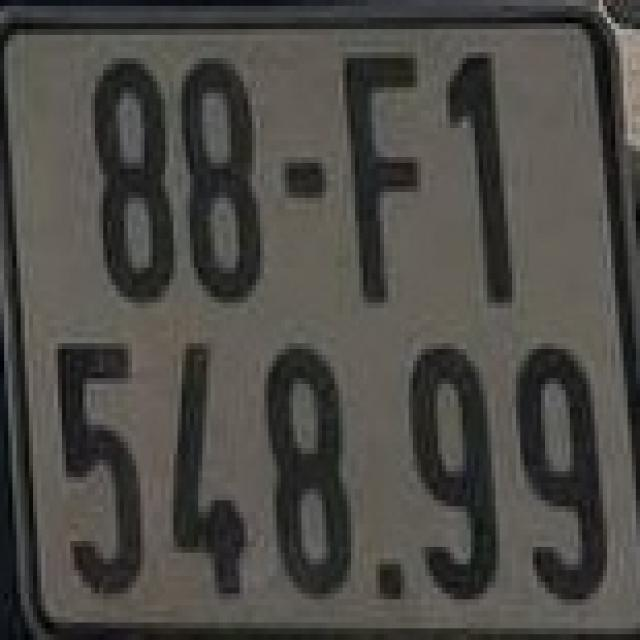1: (438, 41, 532, 314)
4: (161, 332, 252, 599)
5: (50, 326, 148, 599)
8: (260, 332, 359, 605), (86, 46, 178, 308), (178, 46, 268, 308)
9: (508, 332, 615, 605), (401, 332, 504, 605)
F: (330, 41, 430, 314)
